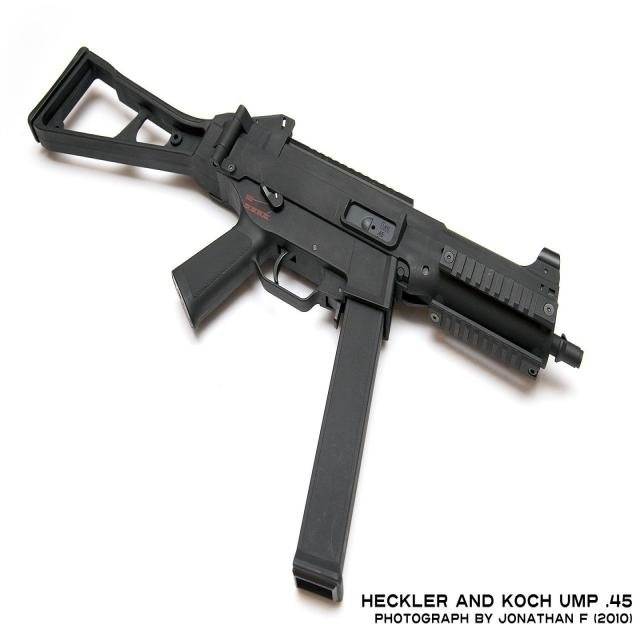SMG: (27, 48, 584, 604)
